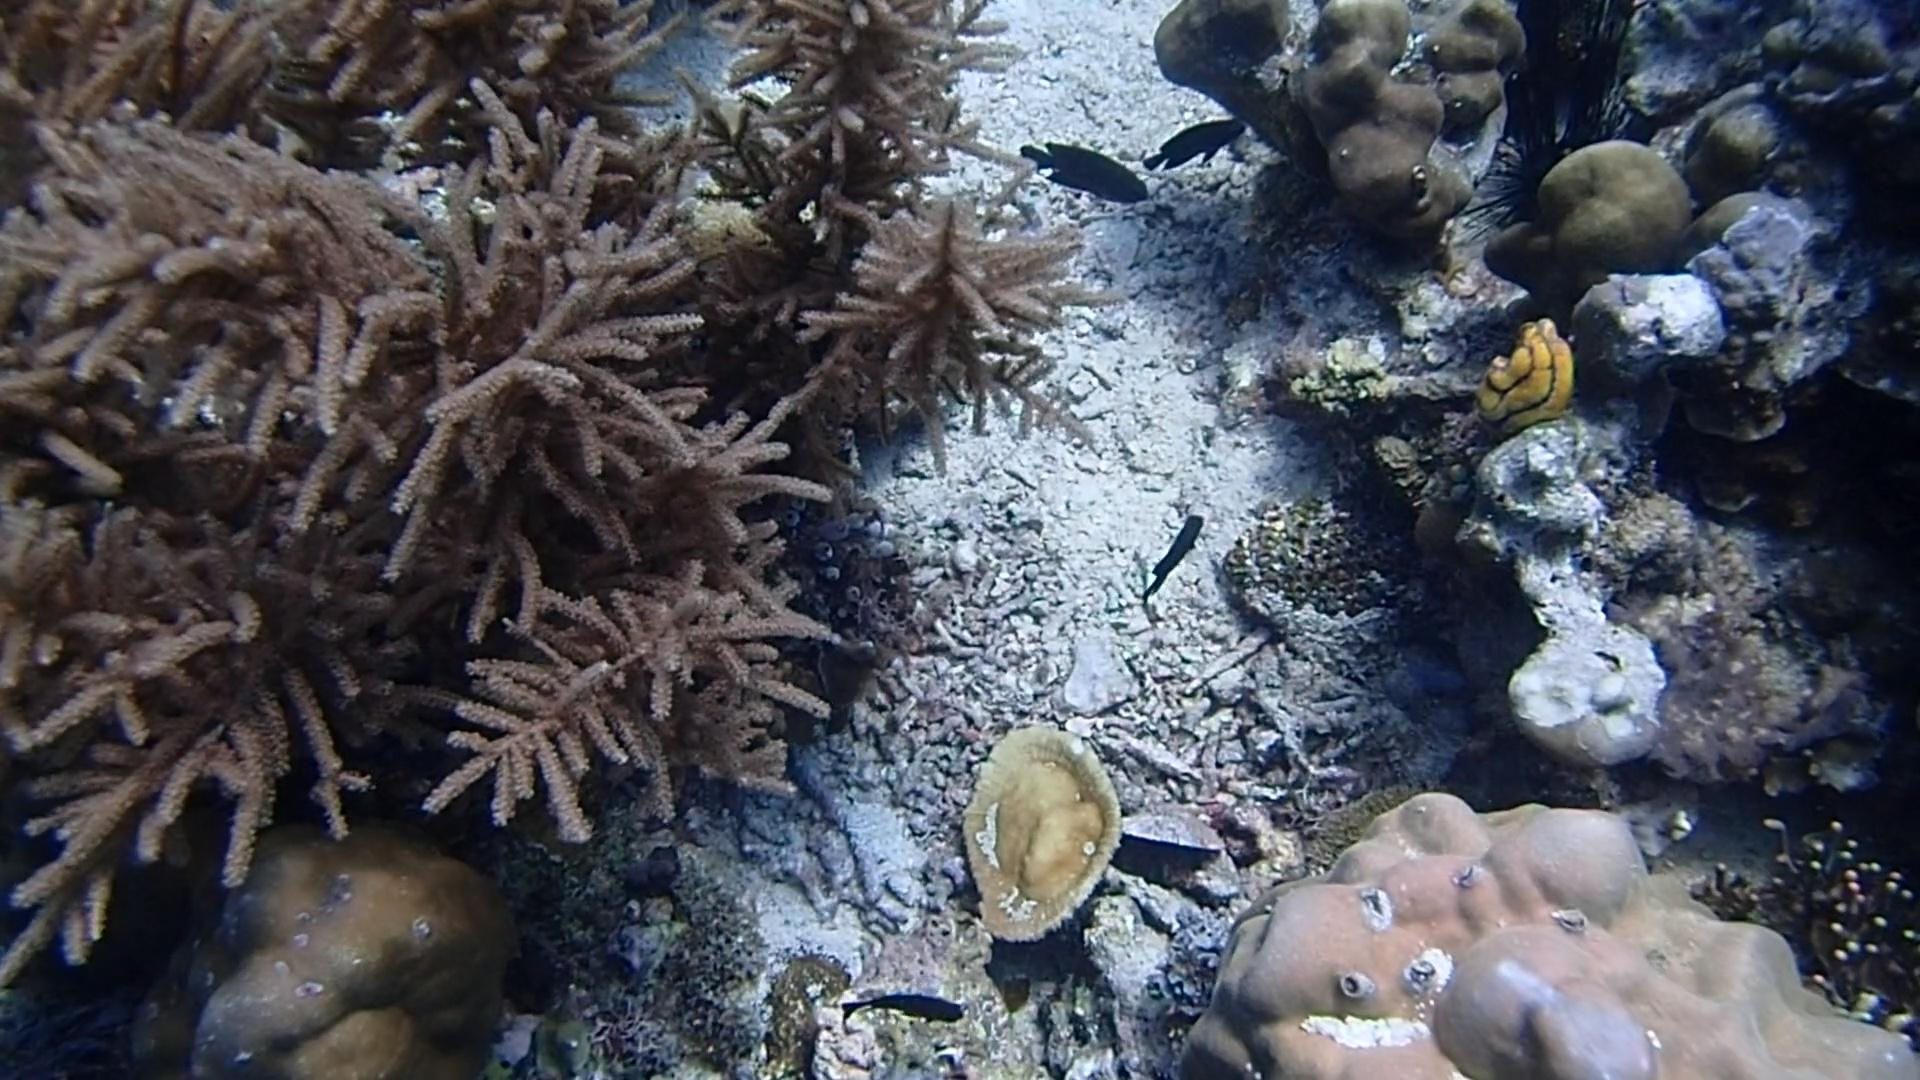Dark Fish: (1014, 128, 1155, 228), (827, 976, 982, 1038), (1131, 504, 1217, 607), (1145, 104, 1257, 178)
